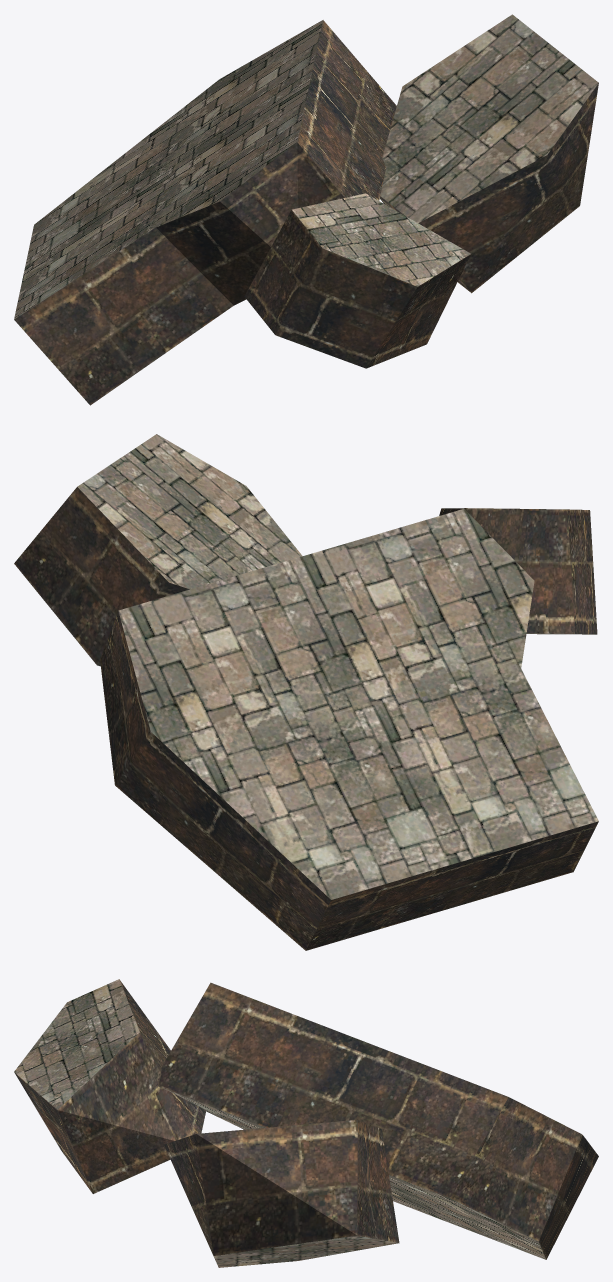
The model's file is ruin_rocks1.glb.
3 views of the same model, one above another, from view 1: azimuth 30°, elevation 25°; view 2: azimuth 150°, elevation 25°; view 3: azimuth 270°, elevation 25° (orthographic). The views are drawn at different scales.
Visible parts, largest first — view 1: ruin_rocks1-col; view 2: ruin_rocks1-col; view 3: ruin_rocks1-col.
Part boxes in pixels (<box>): ruin_rocks1-col: <box>14,14,598,405</box>; ruin_rocks1-col: <box>14,434,598,950</box>; ruin_rocks1-col: <box>14,979,598,1267</box>.
Bounding box in the file's own units: 5.48 × 2.75 × 5.01.
Materials: 2 (2 with a texture image).
